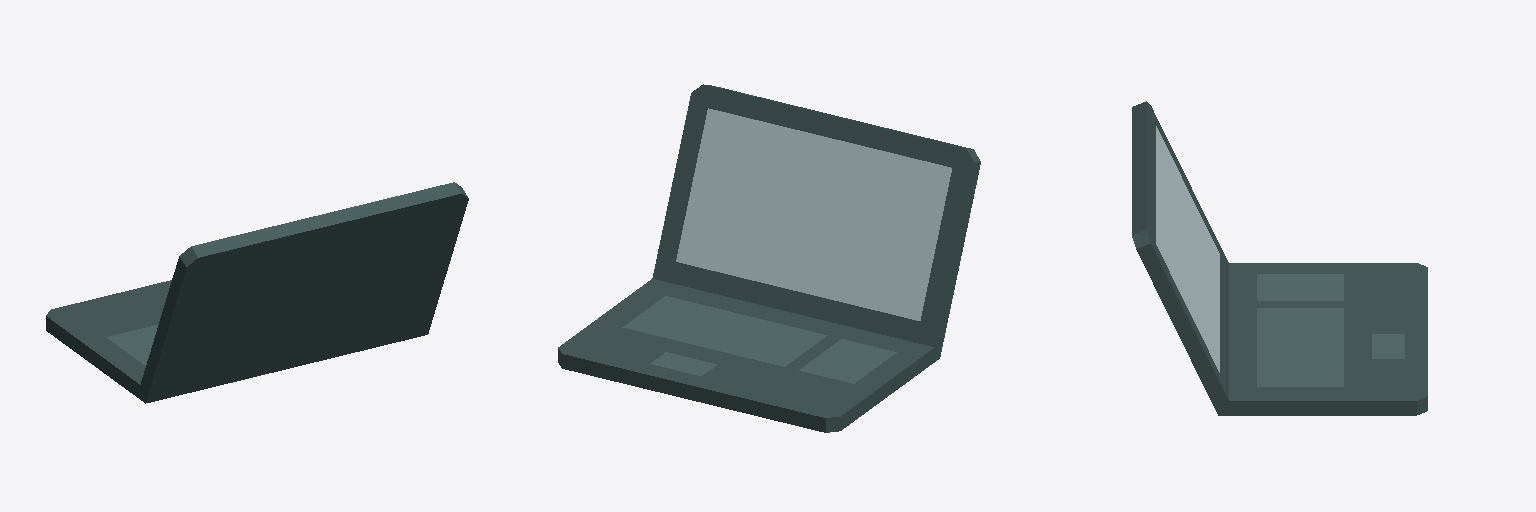
Rendered from laptop.obj.
The picture shows the model from 3 angles: view 1: azimuth 30°, elevation 25°; view 2: azimuth 150°, elevation 25°; view 3: azimuth 270°, elevation 25°; orthographic projection.
Parts seen in each view (by area): view 1: laptop.001; view 2: laptop.001; view 3: laptop.001.
Part boxes in pixels (x1,y1,x2,y2): laptop.001: (46,182,468,403); laptop.001: (558,84,980,432); laptop.001: (1132,101,1427,415).
Size of the model in its own units: 0.264 by 0.1618 by 0.2401.